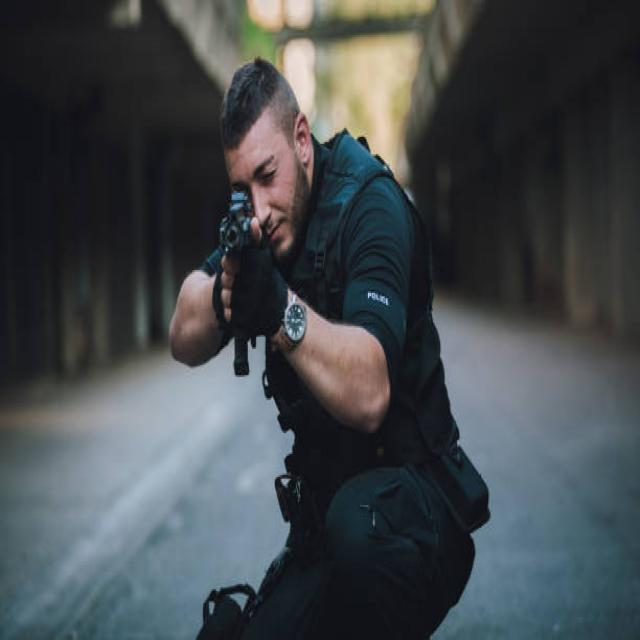soldier: (169, 54, 493, 640)
